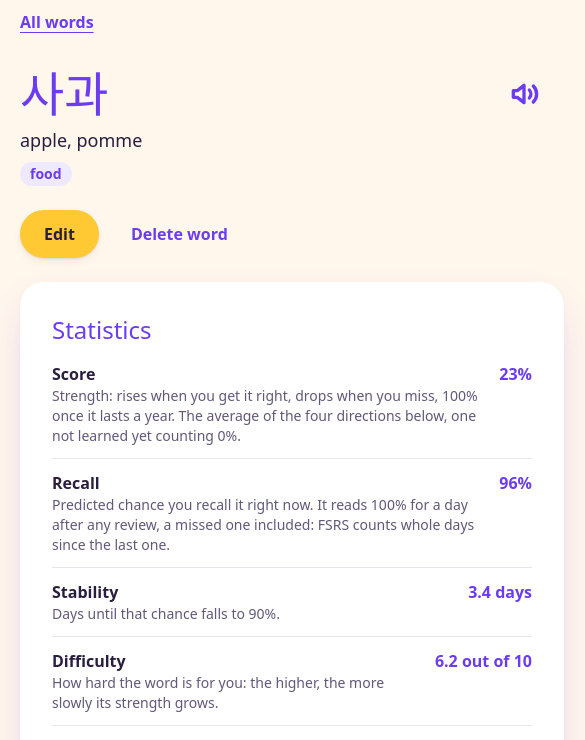
it: cancelling an edit sends nothing and puts the word back as it was
Click the button "Edit" at (59, 234), box left=20, top=210, right=99, bottom=258
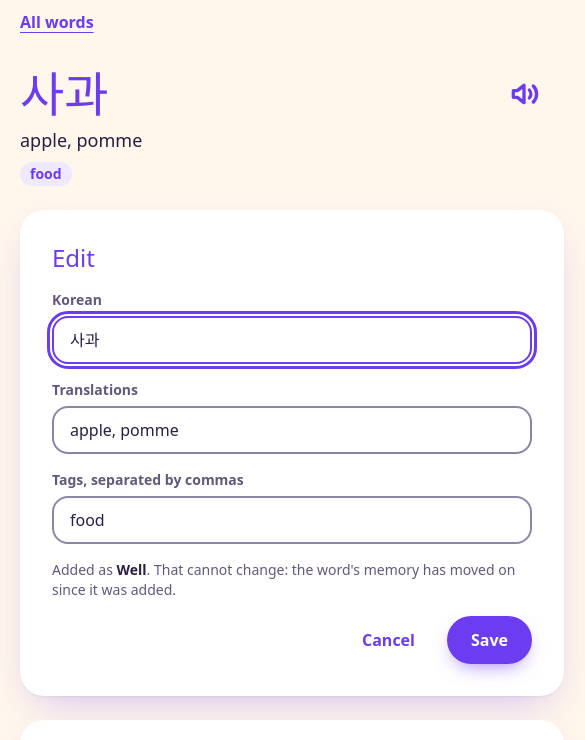
Replace the text in the field labelled "Korean" with "배" at (292, 340), box left=52, top=316, right=532, bottom=364
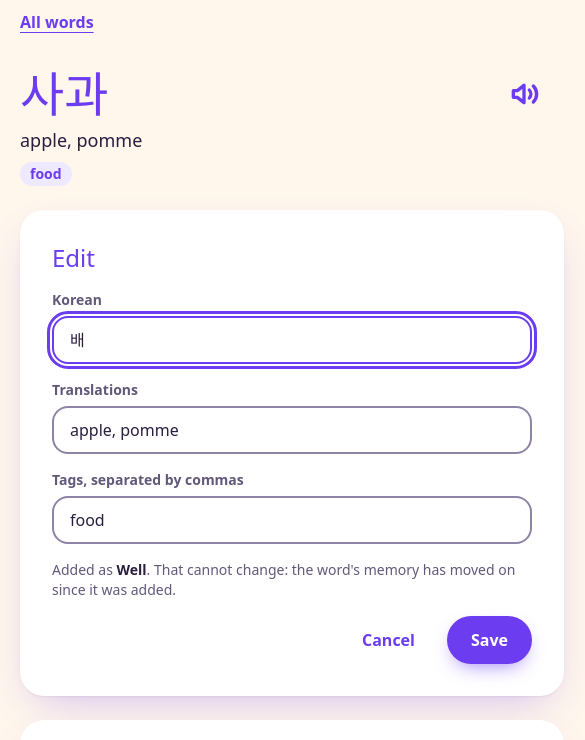
Click the button "Cancel" at (388, 640), box left=338, top=616, right=439, bottom=664
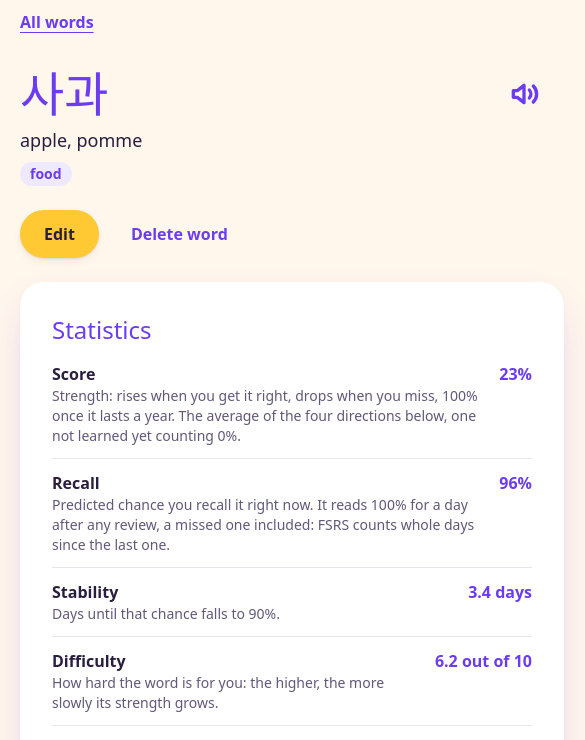
Expected: the heading "사과" is shown, left=20, top=70, right=108, bottom=118
Result: the text "Korean" is gone
